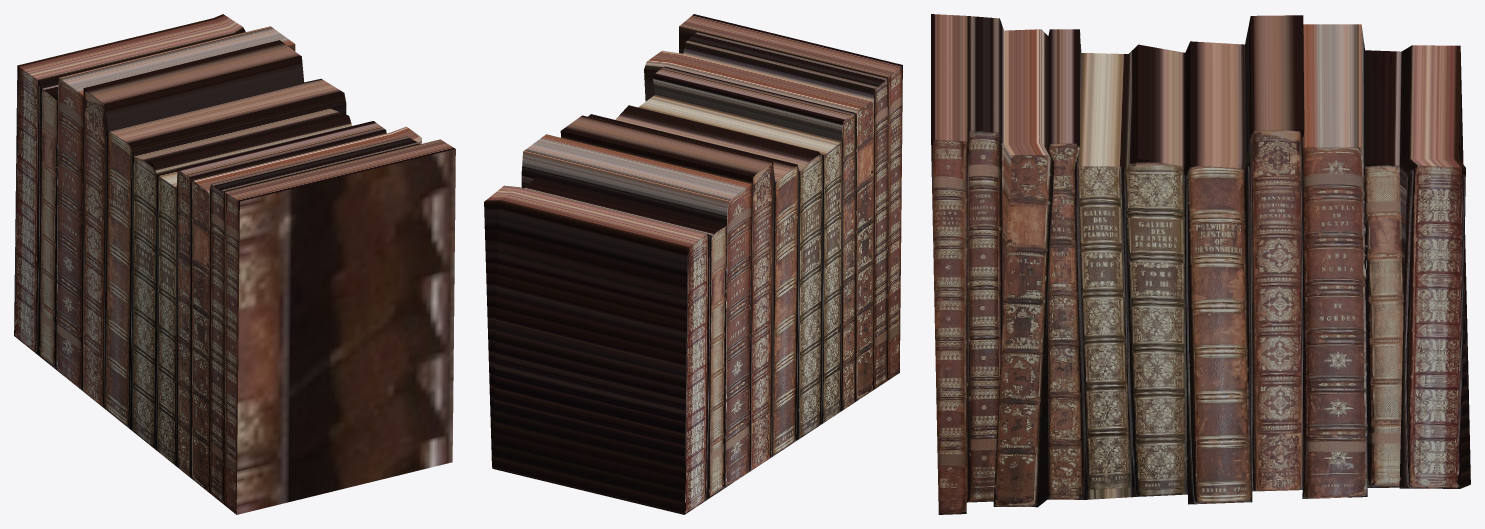
The model's file is Props_BookSet_3.fbx.
The picture shows the model from 3 angles, left to right: view 1: azimuth 30°, elevation 25°; view 2: azimuth 150°, elevation 25°; view 3: azimuth 270°, elevation 25°; orthographic projection. The views are drawn at different scales.
Parts seen in each view (by area): view 1: tx_books_3; view 2: tx_books_3; view 3: tx_books_3.
Boxes of the visible parts, bbox=[...] form: tx_books_3: bbox=[14, 14, 455, 514]; tx_books_3: bbox=[484, 14, 902, 514]; tx_books_3: bbox=[931, 14, 1470, 514].
Bounding box in the file's own units: 62.89 × 87.84 × 114.
